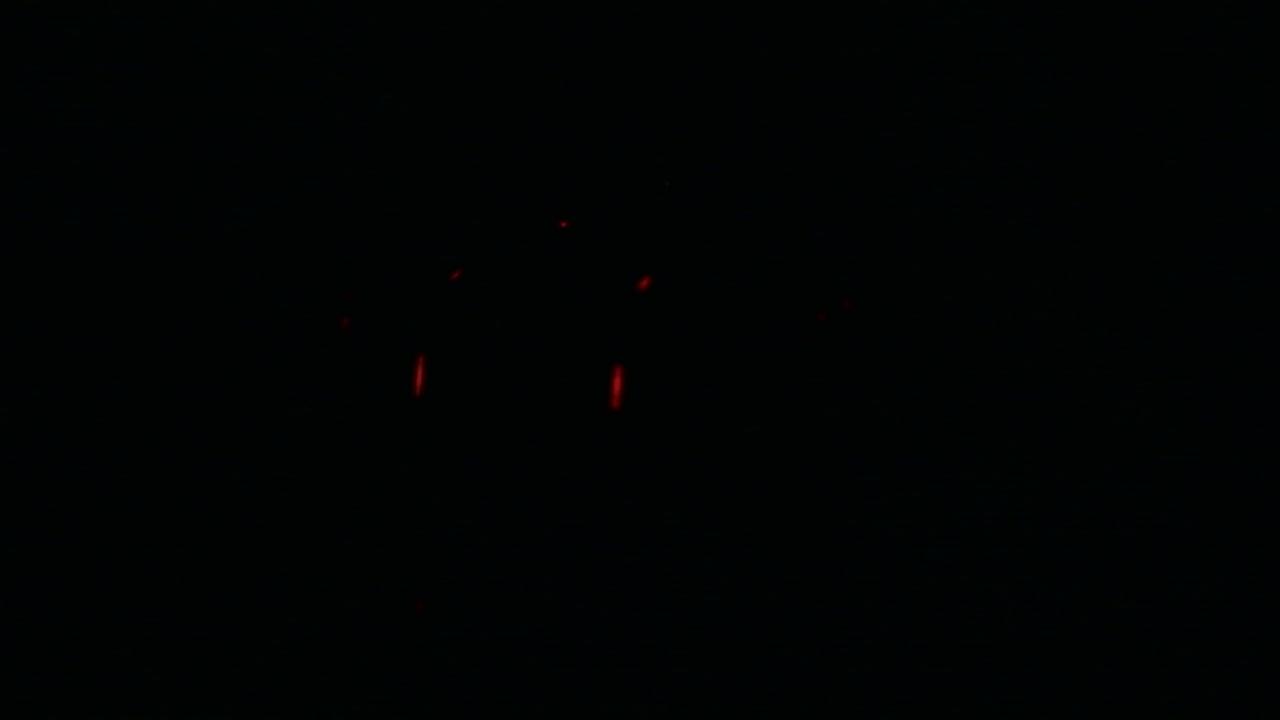lamp: (610, 350, 623, 410), (409, 351, 422, 410)
pair2: (412, 354, 624, 411)
